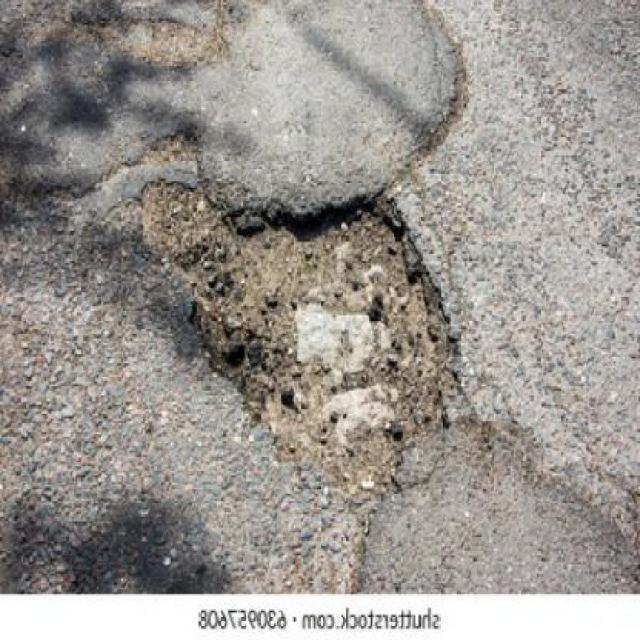Pothole: (131, 129, 468, 514)
